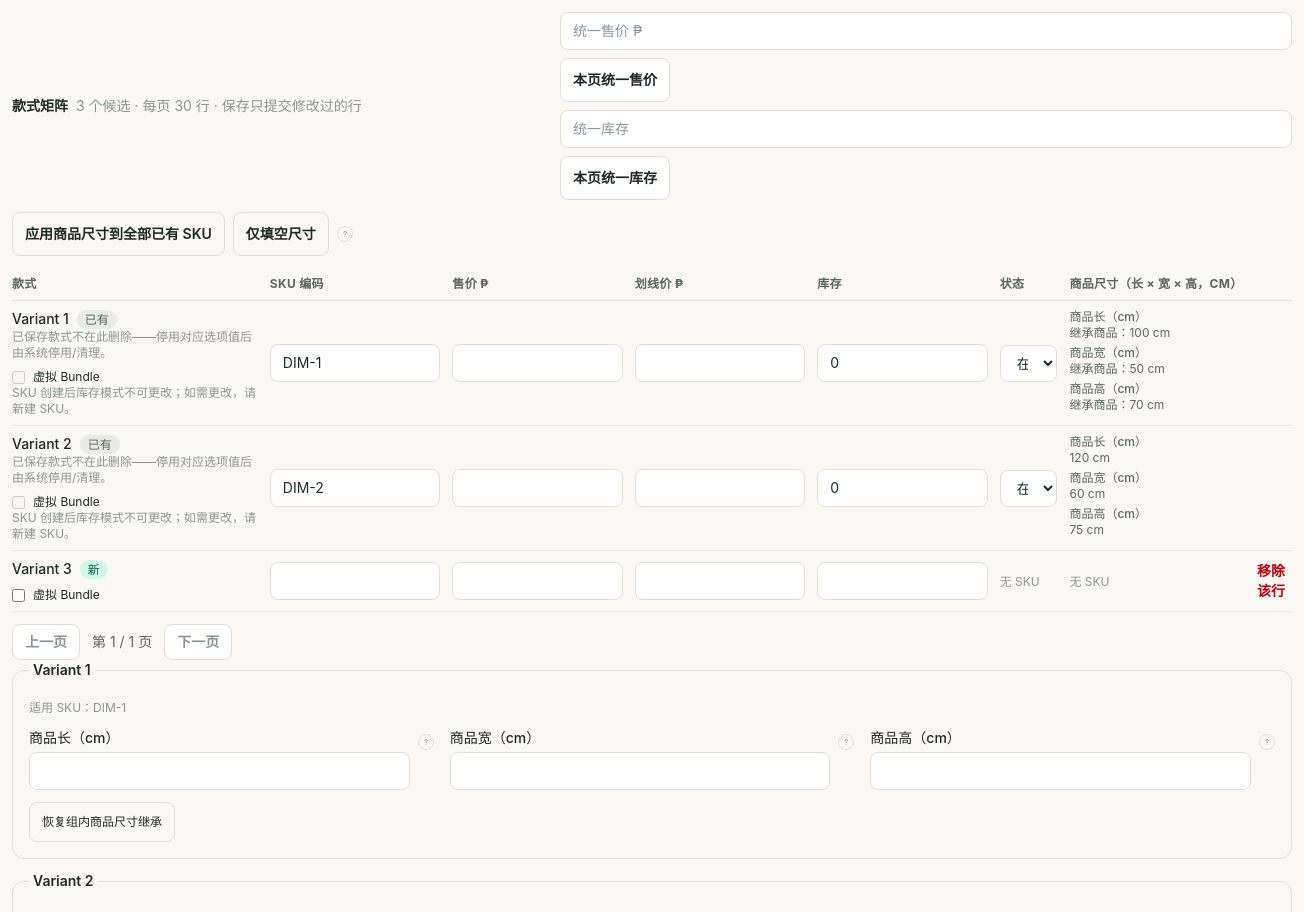
Test: VariantMatrix › SKU product dimension editing › fills empty independent STYLE groups, reports counts, and never materializes an abstract candidate
The width and height of the screenshot is (1304, 912).
Click the button "仅填空尺寸" at (281, 234), box [233, 212, 329, 256]
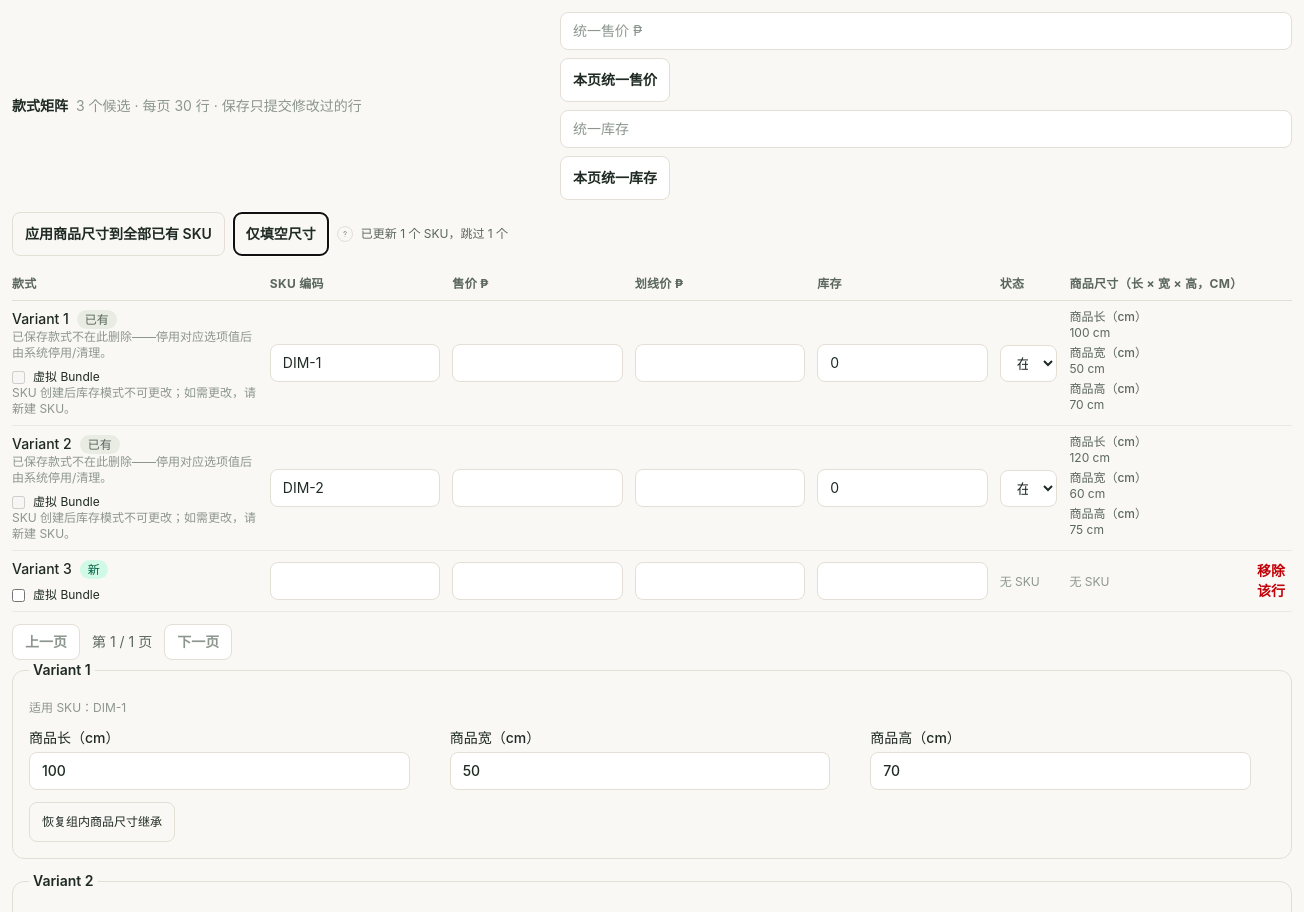
Now the text "已更新 1 个 SKU，跳过 1 个" is shown, box [361, 226, 508, 242]
